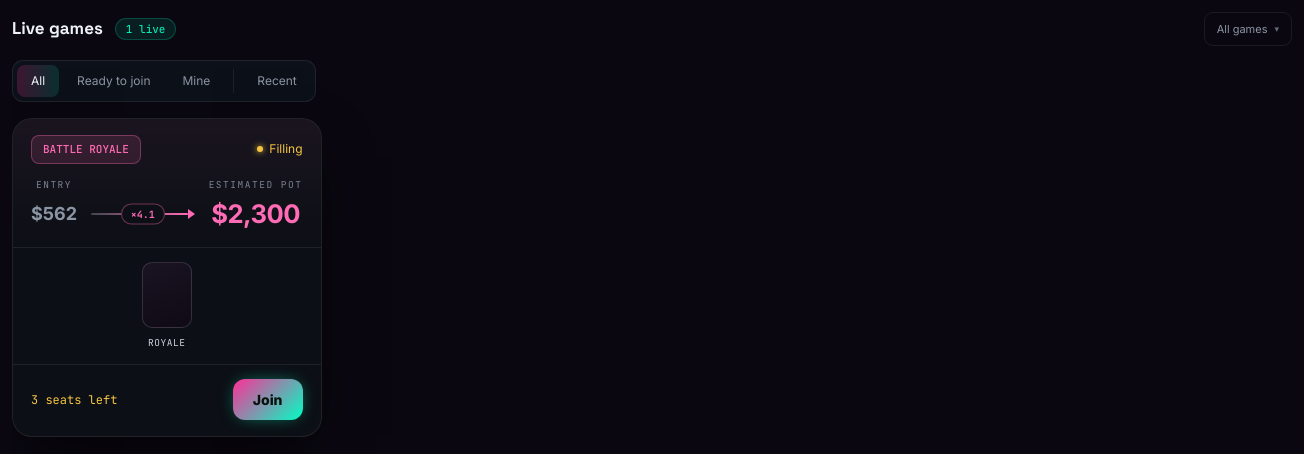
Scenario: LiveBattles › shows an empty-state message when a filter matches nothing
The image size is (1304, 454).
Click the text "Recent" at coordinates (277, 80), box [257,73,297,88]
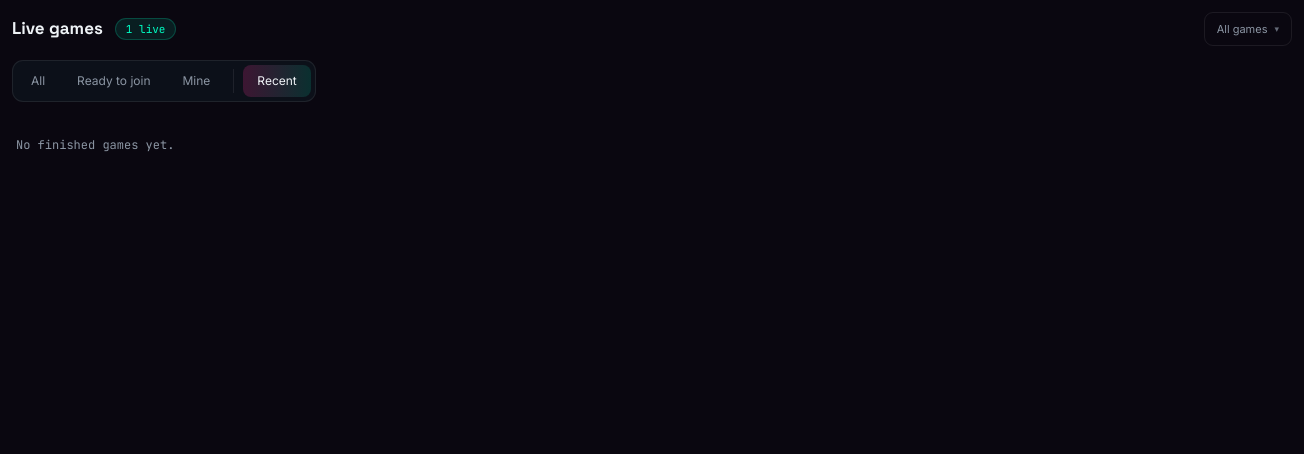
expect the text "No finished games yet." is shown: met, box [16,137,174,153]
